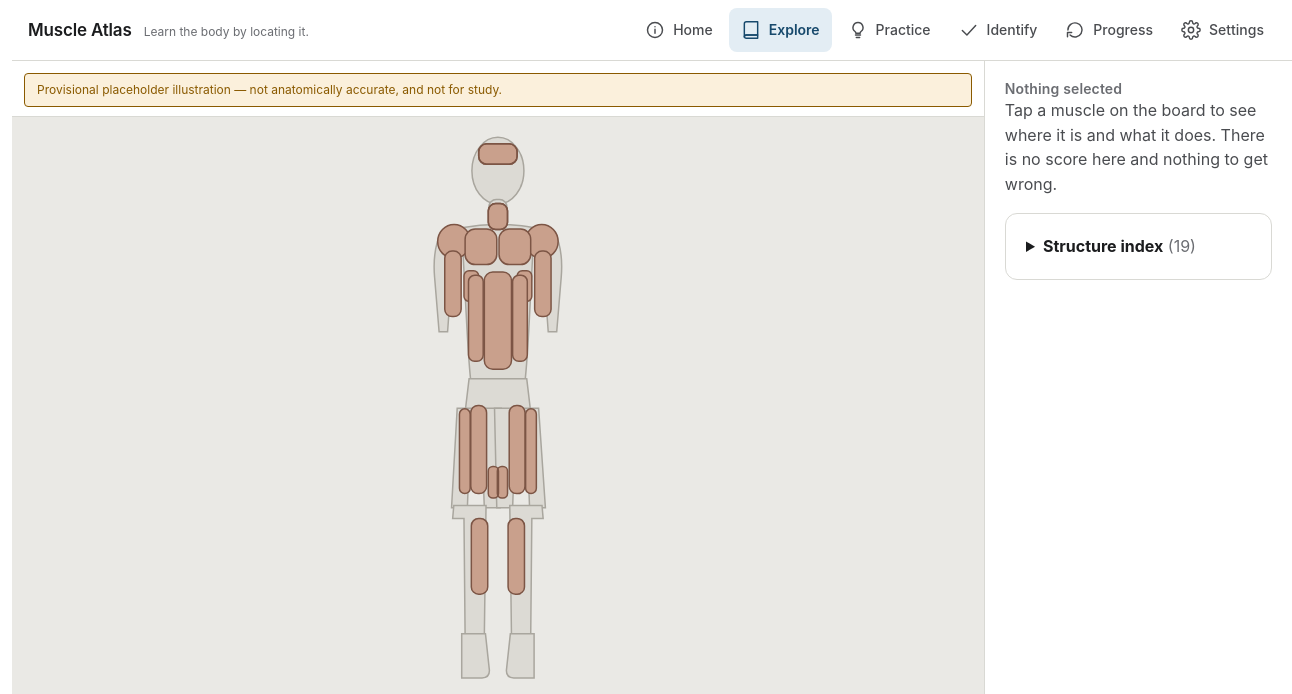
Scenario: explore mode › lists every structure for selection without needing a tap
Click the text "Structure index" at (1103, 246), box [1043,236,1163,256]
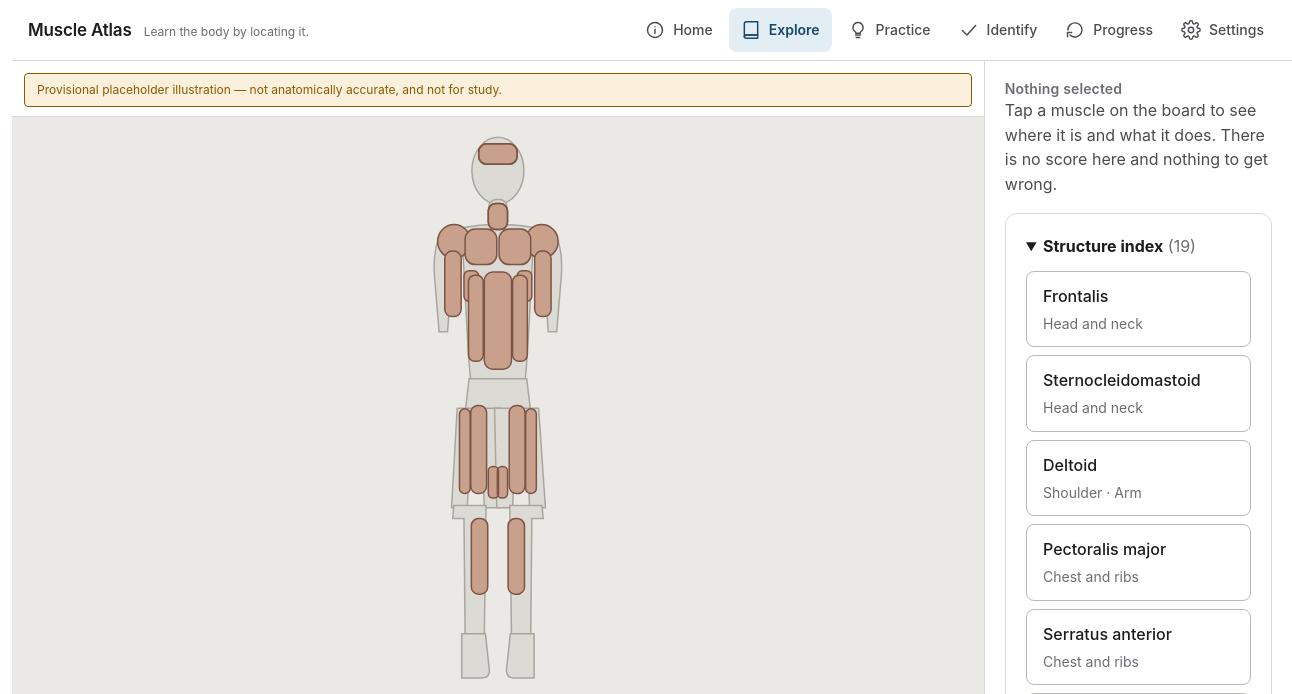
Check: the button "Frontalis Head and neck" is shown, box [1026,271,1251,347]
